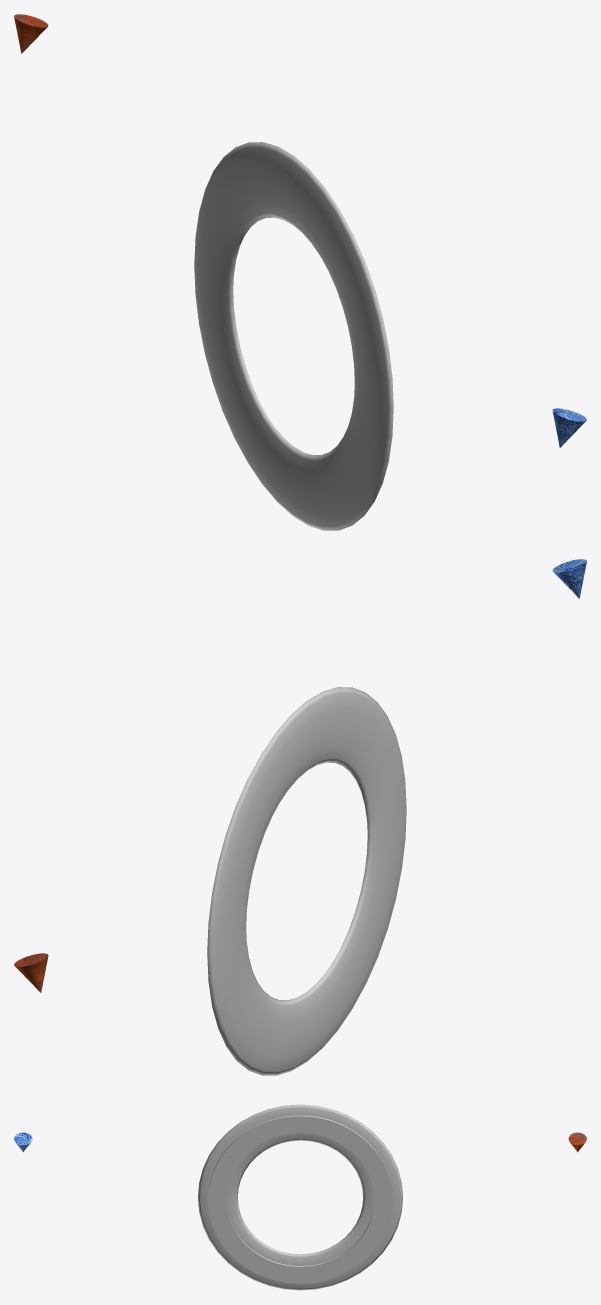
File: portal1.DAE
3 views of the same model, one above another, from view 1: azimuth 30°, elevation 25°; view 2: azimuth 150°, elevation 25°; view 3: azimuth 270°, elevation 25° (orthographic). The views are drawn at different scales.
Parts seen in each view (by area): view 1: Torus004, Kegel011, Kegel010; view 2: Torus004, Kegel010, Kegel011; view 3: Torus004, Rohr003.
Part boxes in pixels (left/top/right/bottom): Torus004: left=194, top=142, right=393, bottom=530; Kegel011: left=552, top=408, right=586, bottom=447; Kegel010: left=14, top=14, right=48, bottom=53; Torus004: left=207, top=687, right=406, bottom=1075; Kegel010: left=14, top=953, right=48, bottom=992; Kegel011: left=552, top=559, right=586, bottom=598; Torus004: left=198, top=1104, right=402, bottom=1290; Rohr003: left=208, top=1115, right=392, bottom=1283.
Bounding box in the file's own units: 1.9 × 62 × 22.21.
